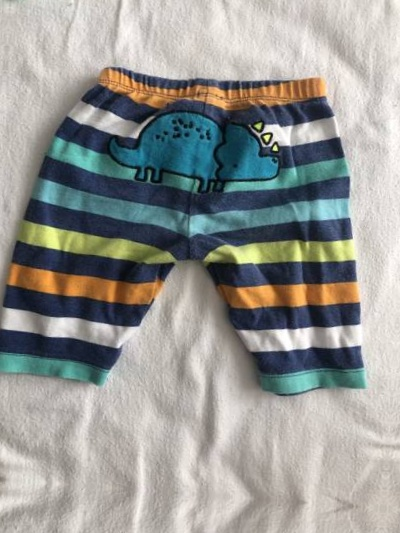Pants: (0, 53, 391, 402)
